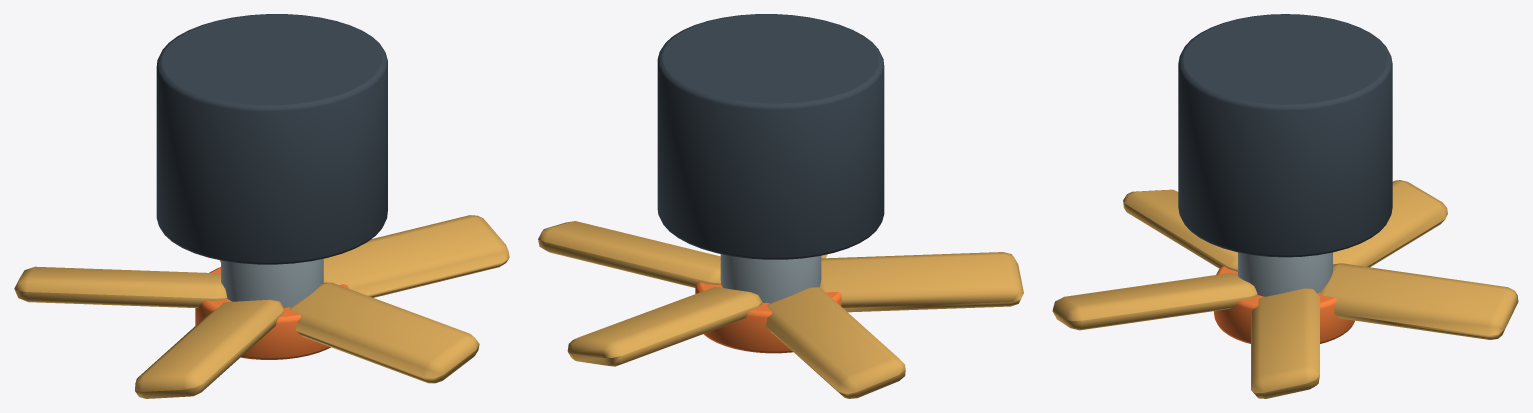
File: propeller.glb
3 views of the same model, side by side, from view 1: azimuth 30°, elevation 25°; view 2: azimuth 150°, elevation 25°; view 3: azimuth 270°, elevation 25° (orthographic). The views are drawn at different scales.
Parts seen in each view (by area): view 1: Drive housing; view 2: Drive housing; view 3: Drive housing.
Part boxes in pixels (<box>): Drive housing: <box>14,14,509,398</box>; Drive housing: <box>538,14,1023,398</box>; Drive housing: <box>1052,14,1518,398</box>.
Bounding box in the file's own units: 0.8 × 0.5 × 0.8.
